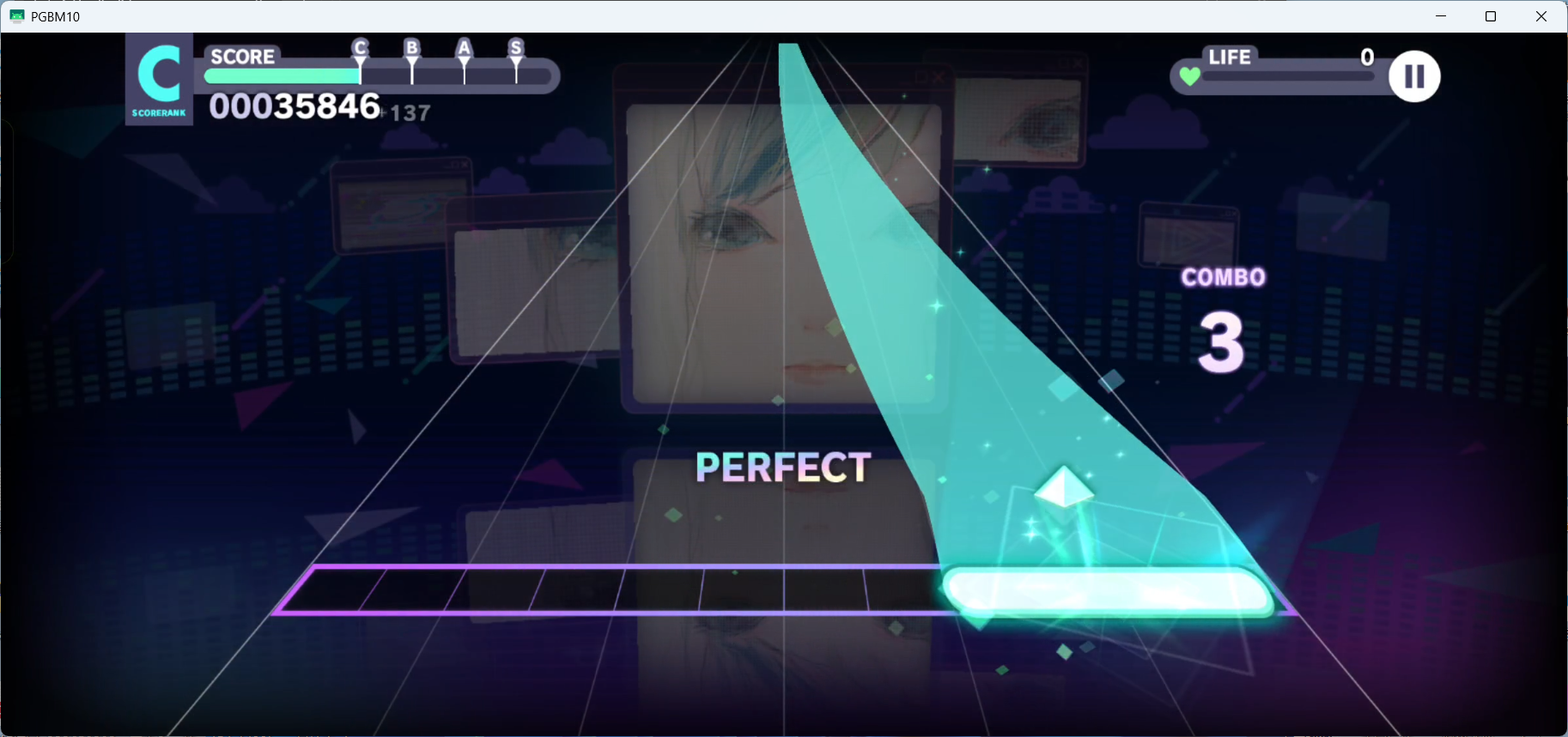hold: (779, 44, 1258, 565)
sweep: (1034, 463, 1095, 528)
tap: (944, 567, 1277, 619)
